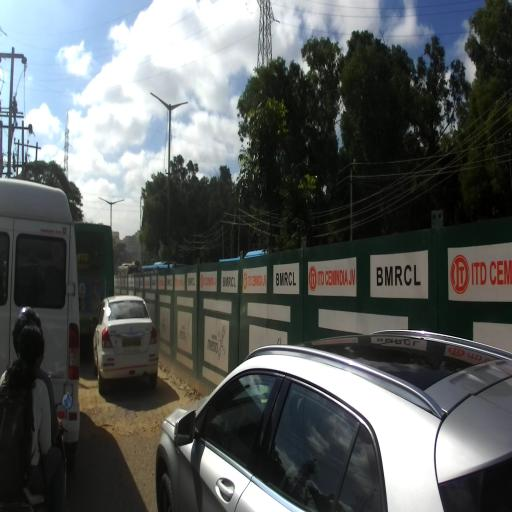street_light_0: (150, 92, 171, 114), (169, 102, 188, 114), (98, 197, 112, 206), (110, 199, 124, 206)
